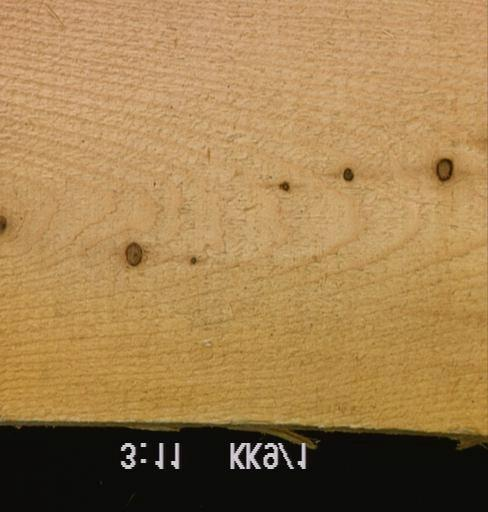dry_knot: (123, 242, 143, 267), (435, 157, 453, 182)
small_knot: (341, 167, 354, 183), (279, 180, 290, 193), (188, 256, 197, 267)
sound_knot: (0, 213, 6, 235)
